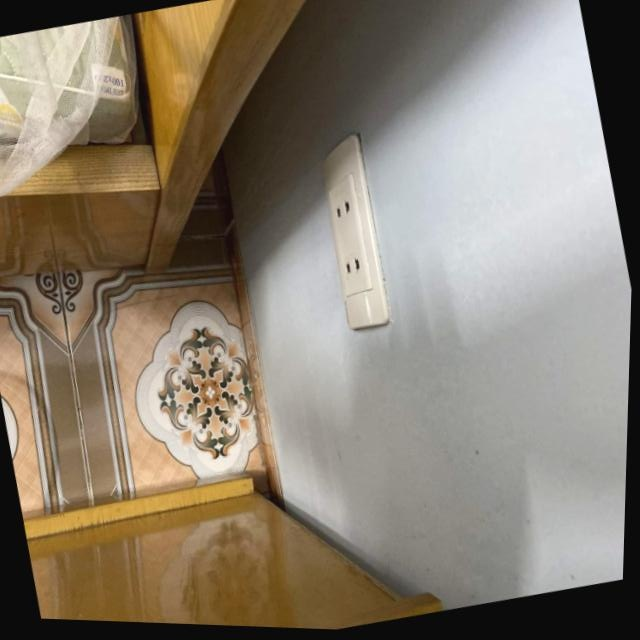outlet: (309, 131, 400, 333)
